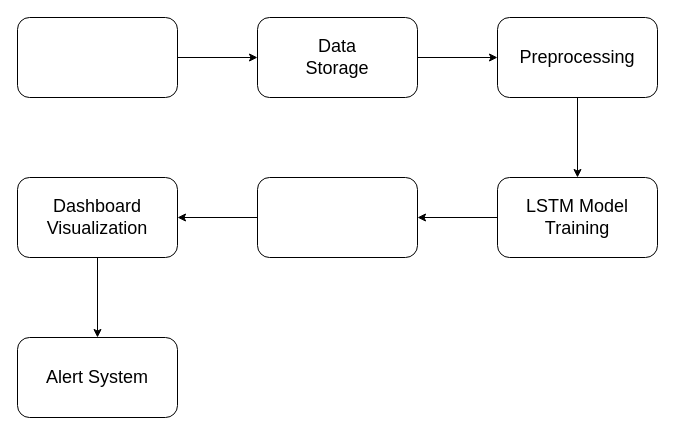
This 675x435 diagram has some shape labels left out. Each missing label, with the centre of its shape:
Prediction Engine: (337,217)
Sensor Data Collection: (97,57)
